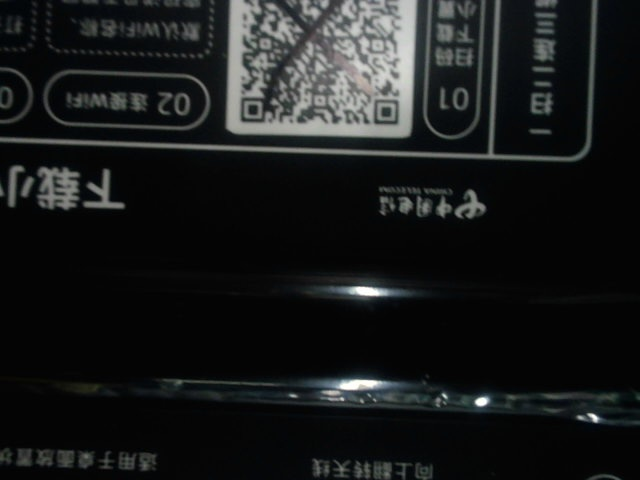AB_ChinaTelecom: (370, 180, 498, 223)
